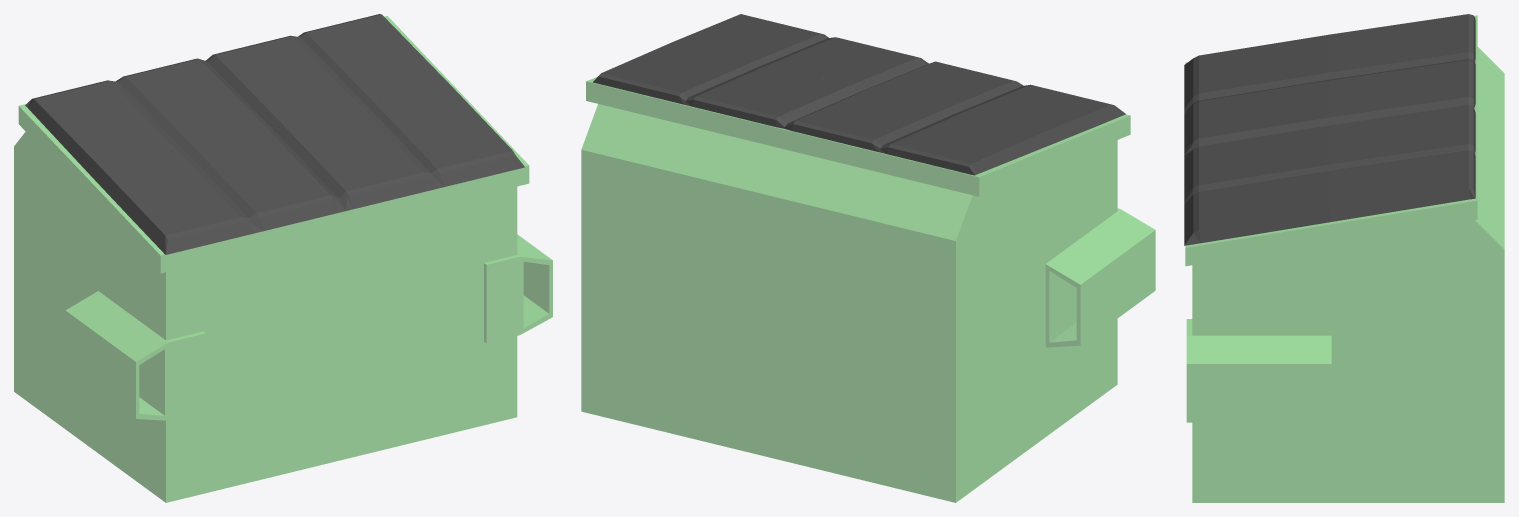
Rendered from dumpster.fbx.
The picture shows the model from 3 angles, left to right: view 1: azimuth 30°, elevation 25°; view 2: azimuth 150°, elevation 25°; view 3: azimuth 270°, elevation 25°; orthographic projection. The views are drawn at different scales.
Parts seen in each view (by area): view 1: pCube1; view 2: pCube1; view 3: pCube1.
Boxes of the visible parts, <box> form: pCube1: <box>14,14,552,502</box>; pCube1: <box>581,14,1155,502</box>; pCube1: <box>1184,14,1504,502</box>.
Size of the model in its own units: 7.12 by 4.97 by 4.61.
